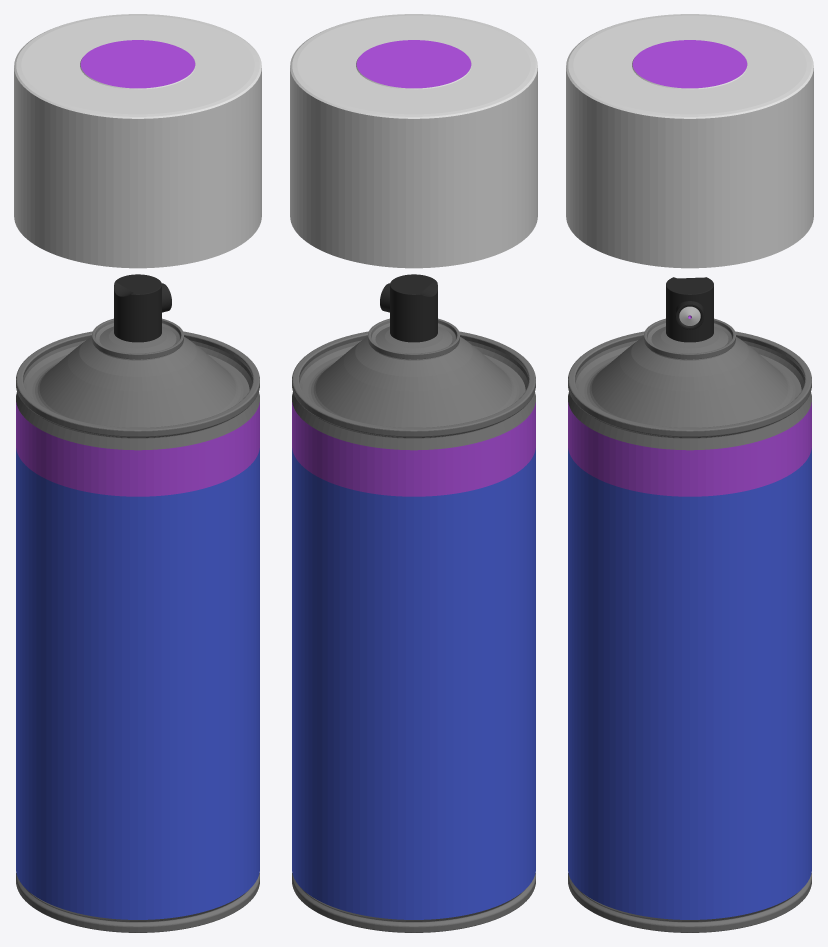
File: OnePieceSprayCan.fbx
3 views of the same model, side by side, from view 1: azimuth 30°, elevation 25°; view 2: azimuth 150°, elevation 25°; view 3: azimuth 270°, elevation 25° (orthographic).
Visible parts, largest first — view 1: AssembdSprayPaintCan; view 2: AssembdSprayPaintCan; view 3: AssembdSprayPaintCan.
Boxes of the visible parts, box(x1,y1,x2,y2) form: AssembdSprayPaintCan: box(14, 14, 261, 932); AssembdSprayPaintCan: box(290, 14, 537, 932); AssembdSprayPaintCan: box(566, 14, 813, 932).
Bounding box in the file's own units: 6.7 × 6.7 × 24.38.
